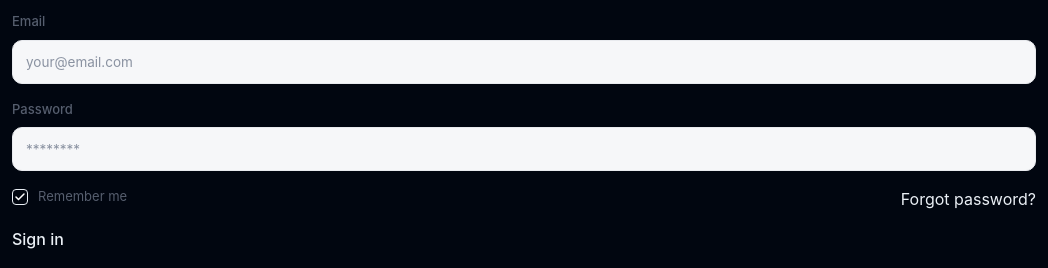
Test: LoginForm state handling › shows submit loading state while request is in-flight
Type "test@example.com" into the field labelled "Email" at {"x": 524, "y": 62}, box [12,40,1036,84]
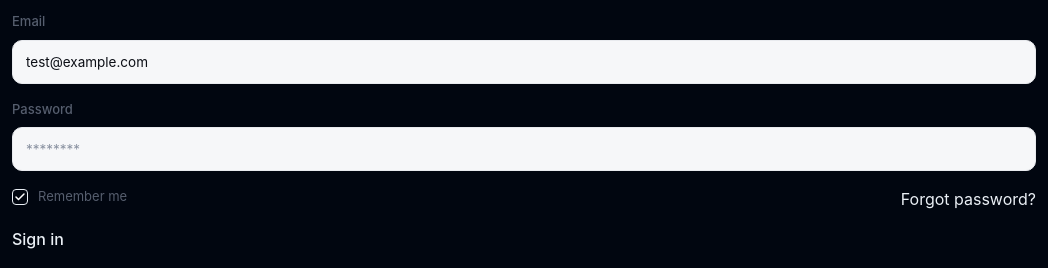
Type "Secret123!" into the password field labelled "Password" at {"x": 524, "y": 149}, box [12,127,1036,171]
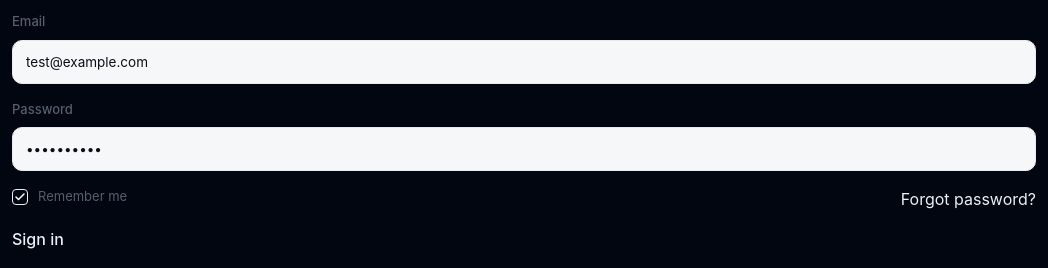
Click the button "Sign in" at {"x": 38, "y": 239}, box [12,227,64,251]
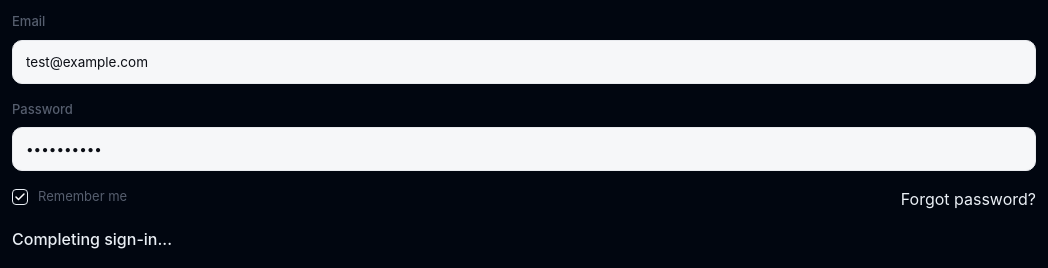
Now the button "Completing sign-in..." is shown, box [12,227,172,251]
